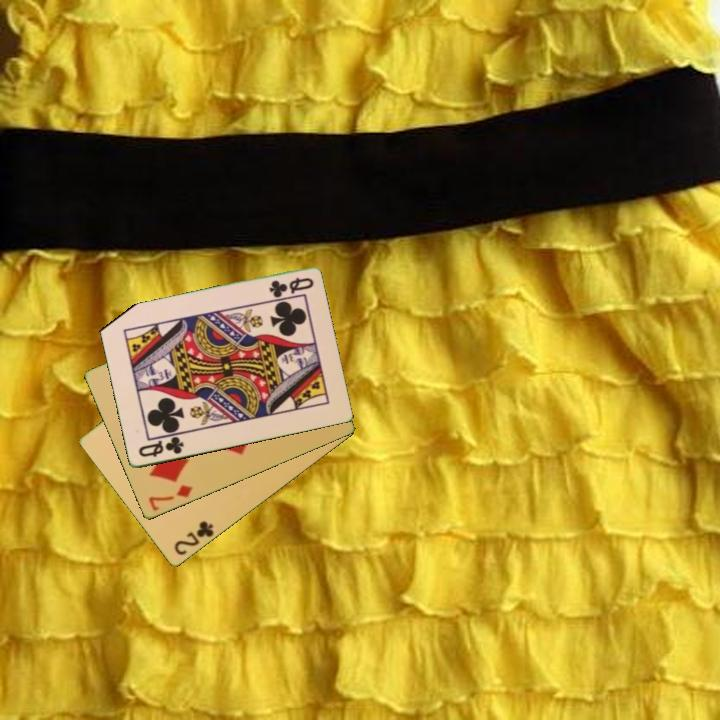2c: (171, 517, 217, 559)
7d: (145, 481, 196, 514)
Qc: (135, 433, 187, 460), (265, 274, 316, 300)
